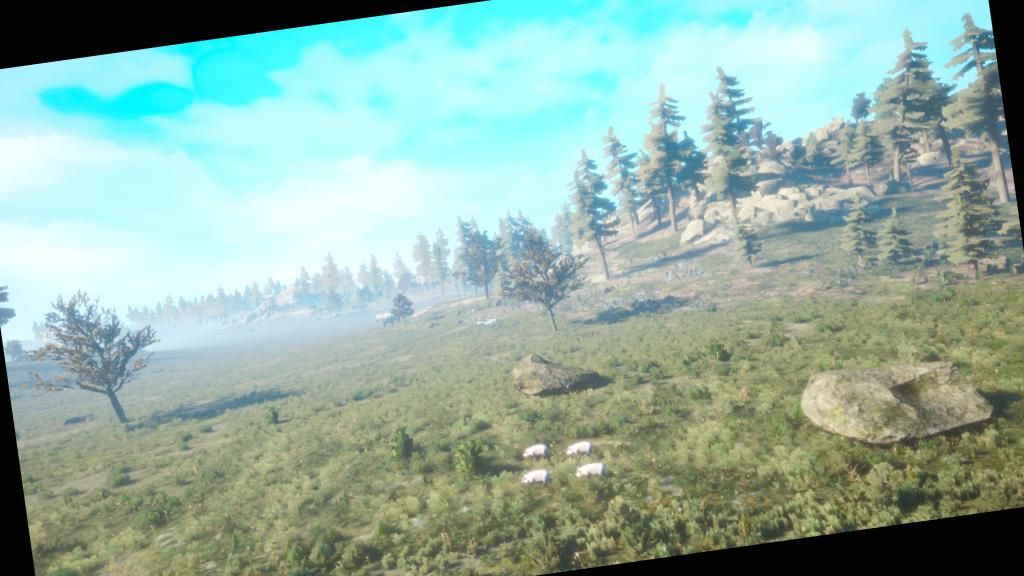elephant: (372, 308, 400, 331)
pig: (516, 464, 556, 494), (562, 436, 601, 466), (518, 439, 554, 466), (573, 459, 610, 485)
